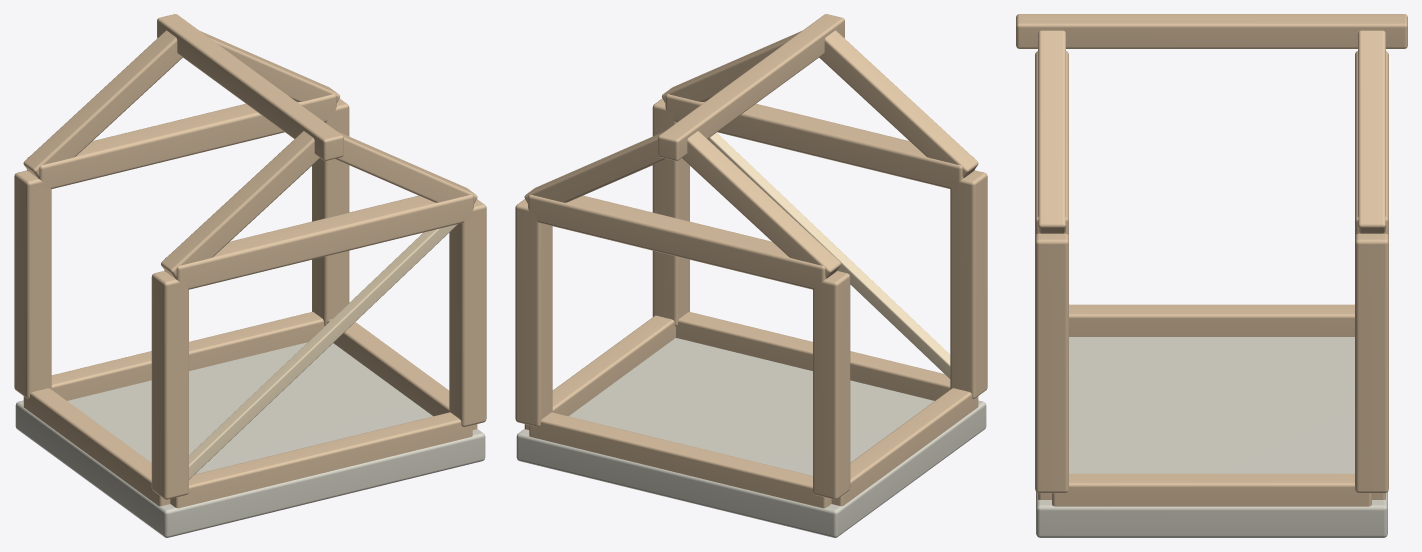
File: feed-store-frame.glb
3 views of the same model, side by side, from view 1: azimuth 30°, elevation 25°; view 2: azimuth 150°, elevation 25°; view 3: azimuth 270°, elevation 25° (orthographic). The views are drawn at different scales.
Visible parts, largest first — view 1: Rounded stone footing.009, Eave beam.012, Eave beam.013, Sill beam.036, Corner post.024, Corner post.025, Corner post.026, Sill beam.037, Ridge beam.006, Temporary brace.002, Gable rafter.026, Gable rafter.024 (+5 smaller); view 2: Rounded stone footing.009, Eave beam.013, Eave beam.012, Sill beam.037, Corner post.025, Corner post.024, Corner post.027, Sill beam.036, Ridge beam.006, Gable rafter.024, Gable rafter.026, Corner post.026 (+5 smaller); view 3: Rounded stone footing.009, Ridge beam.006, Sill beam.039, Sill beam.038, Corner post.026, Corner post.027, Gable rafter.025, Gable rafter.027, Eave beam.012, Eave beam.013.
Boxes of the visible parts, box(x1,y1,x2,y2) form: Rounded stone footing.009: box(15, 342, 485, 537); Eave beam.012: box(164, 194, 473, 289); Eave beam.013: box(27, 94, 336, 189); Sill beam.036: box(170, 412, 472, 508); Corner post.024: box(151, 271, 188, 499); Corner post.025: box(14, 170, 51, 398); Corner post.026: box(449, 199, 486, 426); Sill beam.037: box(51, 311, 324, 400); Ridge beam.006: box(157, 14, 343, 160); Temporary brace.002: box(189, 224, 457, 479); Gable rafter.026: box(23, 30, 182, 177); Gable rafter.024: box(161, 131, 319, 278); Rounded stone footing.009: box(516, 338, 986, 537); Eave beam.013: box(528, 194, 837, 289); Eave beam.012: box(665, 94, 974, 189); Sill beam.037: box(529, 412, 831, 508); Corner post.025: box(813, 271, 850, 499); Corner post.024: box(950, 170, 987, 398); Corner post.027: box(515, 199, 552, 426); Sill beam.036: box(676, 311, 950, 400); Ridge beam.006: box(658, 14, 844, 160); Gable rafter.024: box(819, 30, 978, 177); Gable rafter.026: box(682, 131, 840, 278); Corner post.026: box(652, 98, 689, 326); Rounded stone footing.009: box(1036, 337, 1387, 537); Ridge beam.006: box(1016, 14, 1407, 48); Sill beam.039: box(1052, 473, 1371, 506); Sill beam.038: box(1069, 304, 1354, 336); Corner post.026: box(1035, 233, 1068, 493); Corner post.027: box(1355, 233, 1388, 493); Gable rafter.025: box(1038, 30, 1065, 233); Gable rafter.027: box(1358, 30, 1385, 233); Eave beam.012: box(1035, 51, 1068, 235); Eave beam.013: box(1355, 51, 1388, 235).
Bounding box in the file's own units: 2.17 × 2.37 × 1.96.
